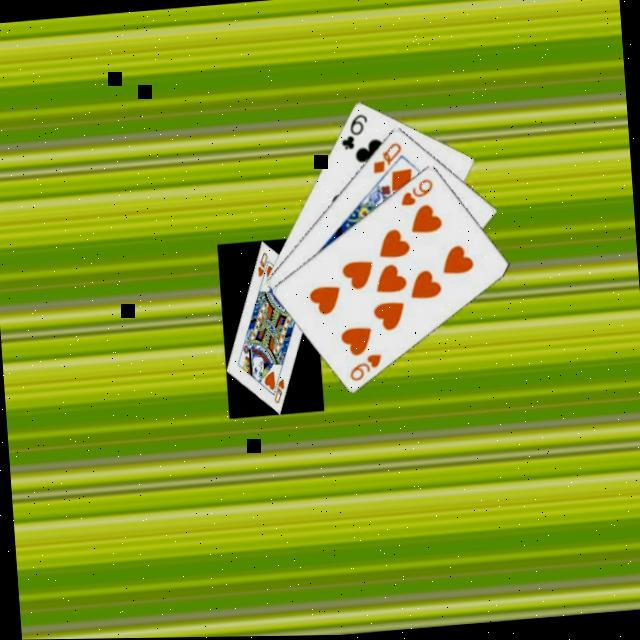6C: (334, 112, 372, 154)
9H: (394, 176, 436, 211), (345, 351, 385, 386)
QD: (366, 140, 404, 178)
